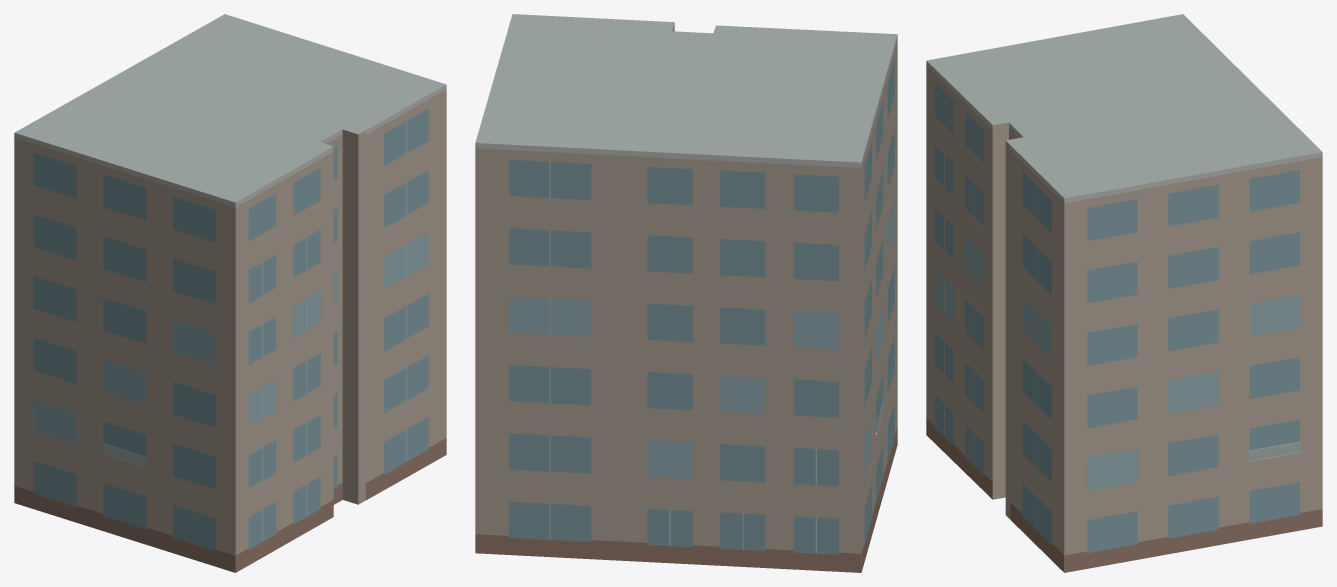
The model's file is survey-upis-32960098.glb.
The picture shows the model from 3 angles, left to right: view 1: azimuth 30°, elevation 25°; view 2: azimuth 150°, elevation 25°; view 3: azimuth 270°, elevation 25°; orthographic projection. The views are drawn at different scales.
Visible parts, largest first — view 1: survey-upis-32960098.tmp; view 2: survey-upis-32960098.tmp; view 3: survey-upis-32960098.tmp.
Boxes of the visible parts, x1,y1,x2,y2 form: survey-upis-32960098.tmp: [14, 14, 446, 572]; survey-upis-32960098.tmp: [475, 14, 897, 572]; survey-upis-32960098.tmp: [926, 14, 1322, 572].
Bounding box in the file's own units: 19.54 × 18.5 × 17.75.
